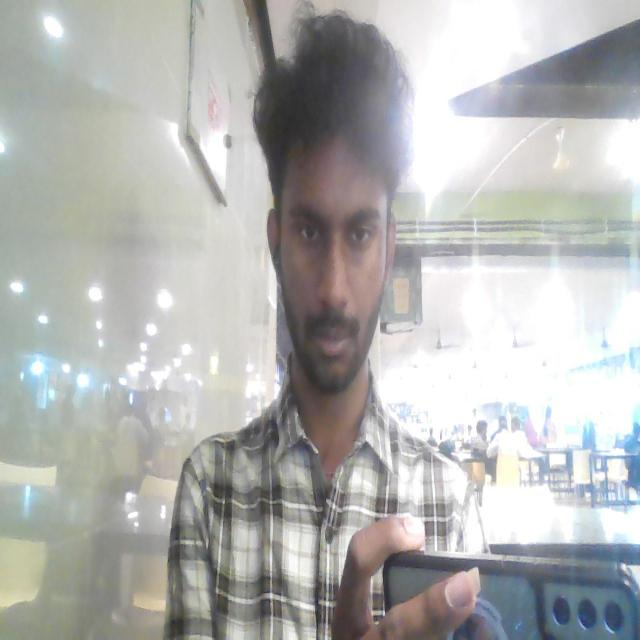phone: (379, 542, 637, 640)
